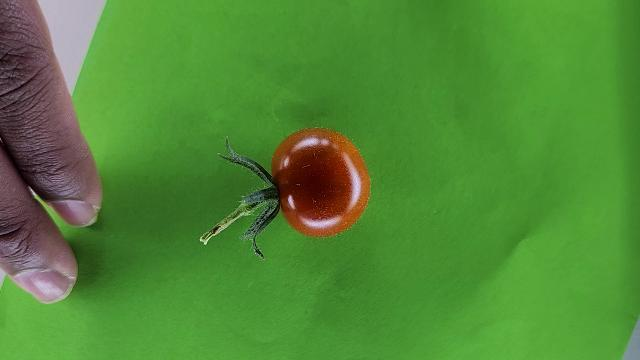Fully Grown: (268, 128, 372, 239)
